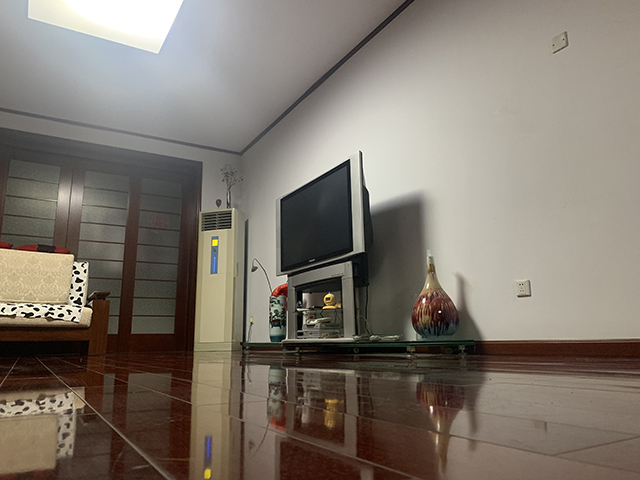cabinet: (239, 259, 477, 359)
sofa: (1, 240, 111, 357)
